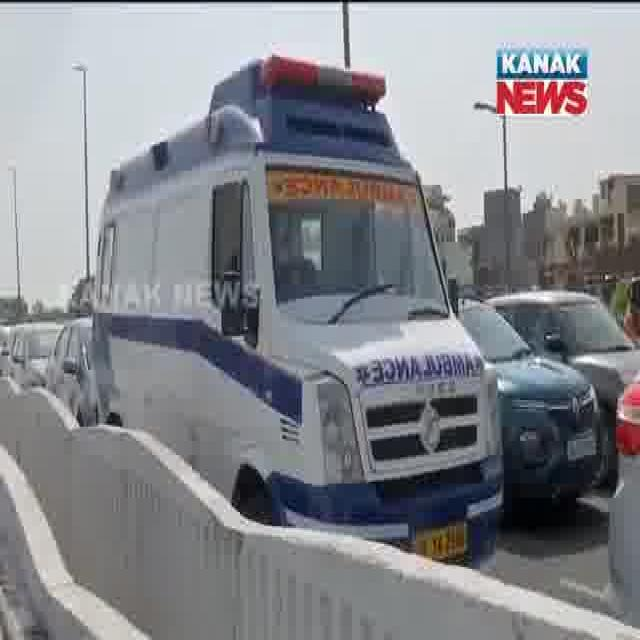ambulance: (76, 53, 506, 571)
